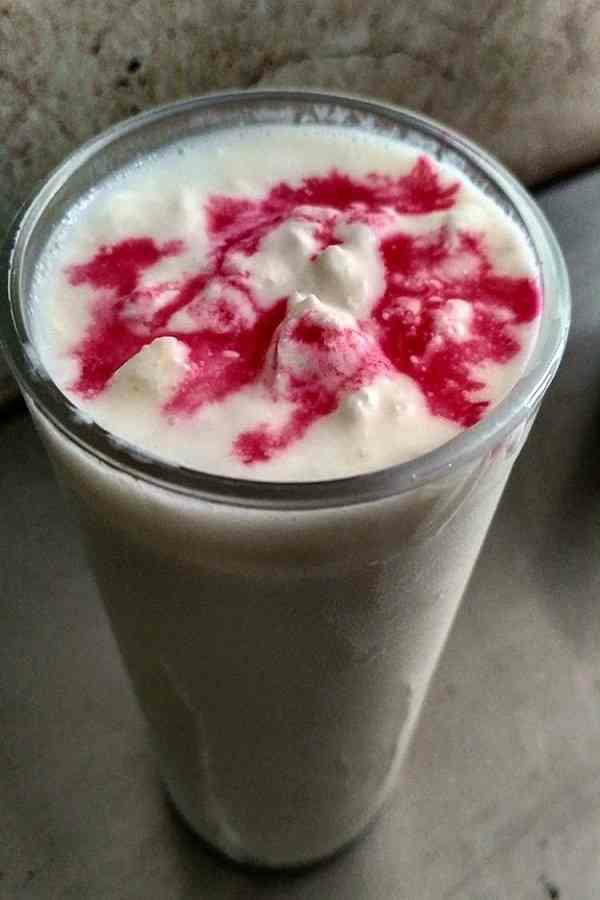Lassi: (25, 122, 545, 863)
